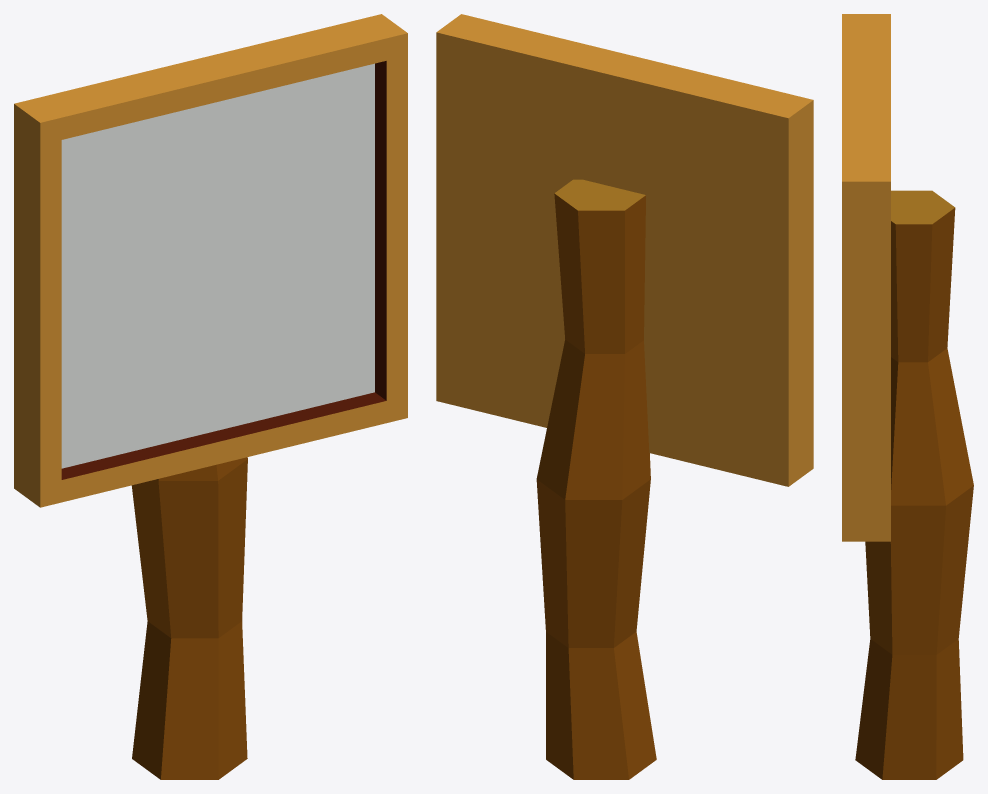
File: sign_1.fbx
3 views of the same model, side by side, from view 1: azimuth 30°, elevation 25°; view 2: azimuth 150°, elevation 25°; view 3: azimuth 270°, elevation 25° (orthographic). The views are drawn at different scales.
Parts seen in each view (by area): view 1: sign_1; view 2: sign_1; view 3: sign_1.
Part boxes in pixels (<box>): sign_1: <box>14,14,407,779</box>; sign_1: <box>436,14,813,779</box>; sign_1: <box>842,14,973,779</box>.
Bounding box in the file's own units: 200 × 368 × 66.48.
